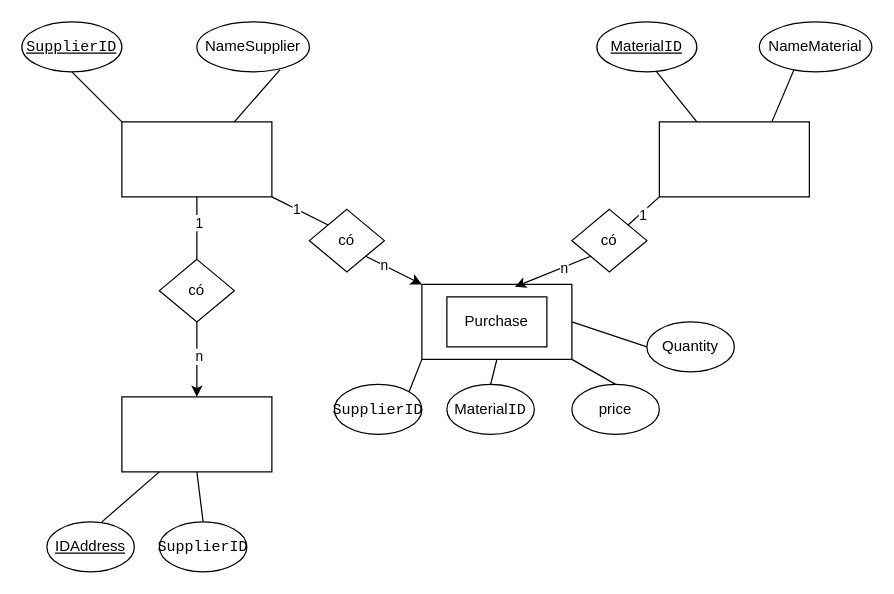
The diagram is 894 pixels wide and 594 high, and some of its shapes have lost their labels. Here are the shapes that lost their labels. From the top down, the centre of each, then its label:
point (196, 159): Supplier
point (733, 159): Material
point (196, 434): address
